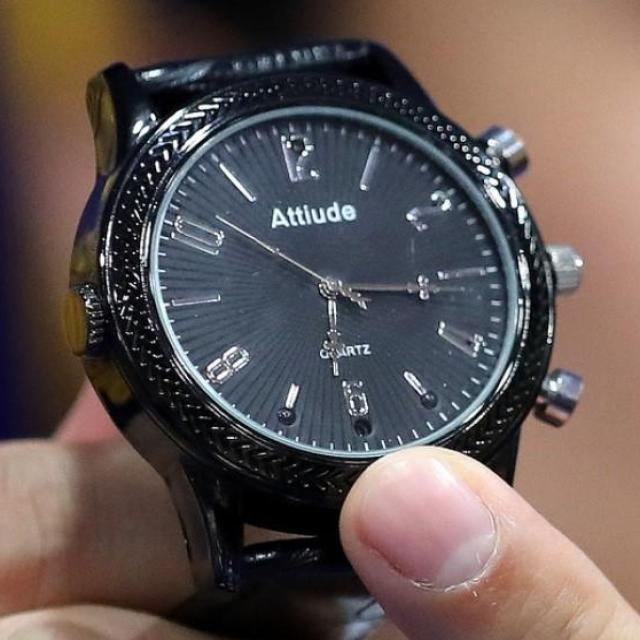hidden camera: (354, 418, 373, 439)
